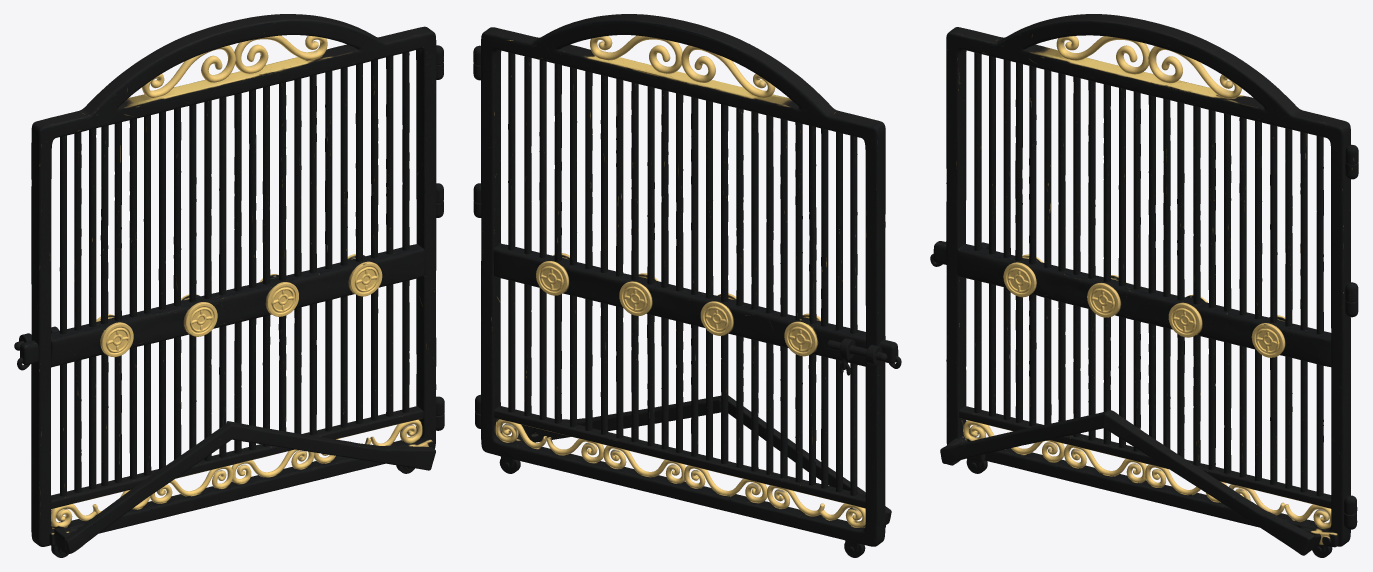
The model's file is Meshy_AI_Golden_Scroll_Gate_20261101_texture.fbx.
The picture shows the model from 3 angles, left to right: view 1: azimuth 30°, elevation 25°; view 2: azimuth 150°, elevation 25°; view 3: azimuth 330°, elevation 25°; orthographic projection.
Visible parts, largest first — view 1: Mesh_0; view 2: Mesh_0; view 3: Mesh_0.
Part boxes in pixels (box(x1,y1,x2,y2)): Mesh_0: box(14, 14, 444, 557); Mesh_0: box(473, 14, 901, 557); Mesh_0: box(930, 14, 1358, 557).
Size of the model in its own units: 173 by 190 by 24.01.
1 material, 1 textured.
